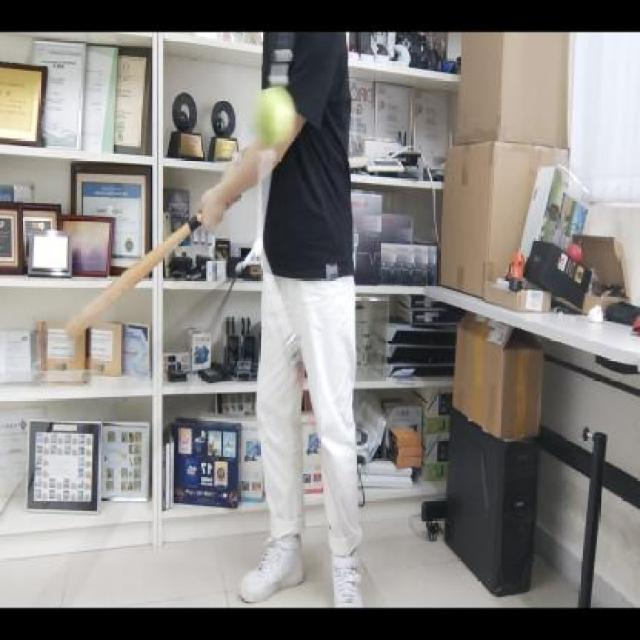baseball: (254, 85, 295, 153)
